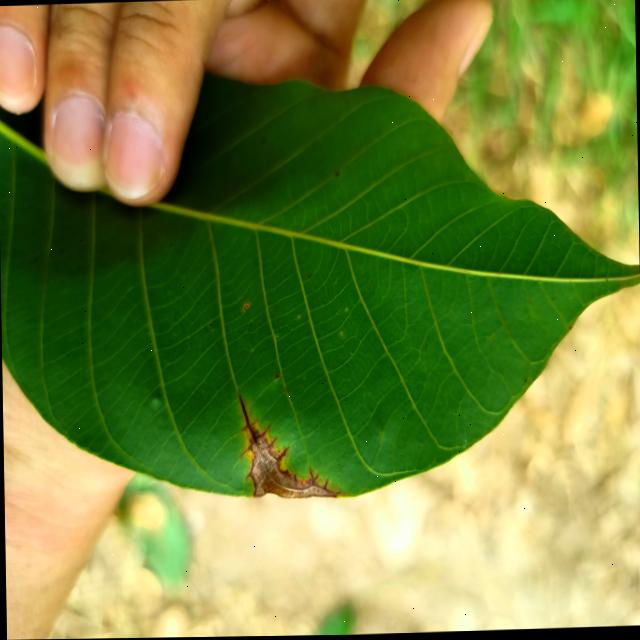Colletotrichum: (243, 306, 247, 311), (274, 375, 278, 379)
Corynespora: (237, 396, 270, 457)
Leaf-Blight: (247, 436, 330, 500)
